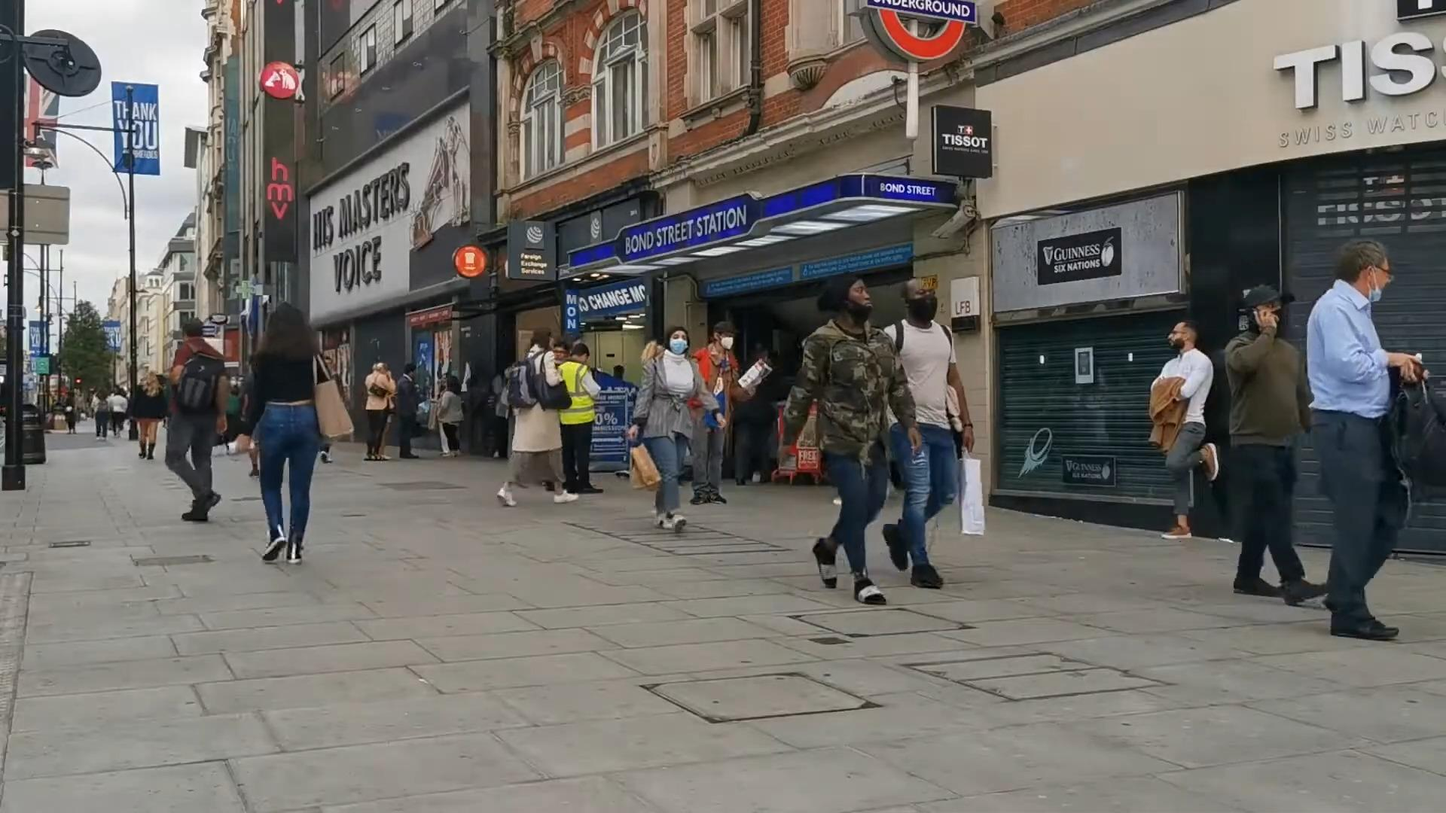no-helmet: (1336, 238, 1394, 304), (818, 273, 874, 324), (265, 302, 313, 355), (1244, 285, 1296, 333), (900, 277, 938, 321), (1166, 320, 1199, 351), (713, 321, 741, 350), (665, 324, 690, 355), (529, 327, 554, 351), (182, 317, 205, 342), (570, 343, 590, 363), (553, 342, 570, 364), (142, 370, 160, 390), (446, 375, 461, 395), (403, 363, 417, 378), (372, 363, 388, 374)
